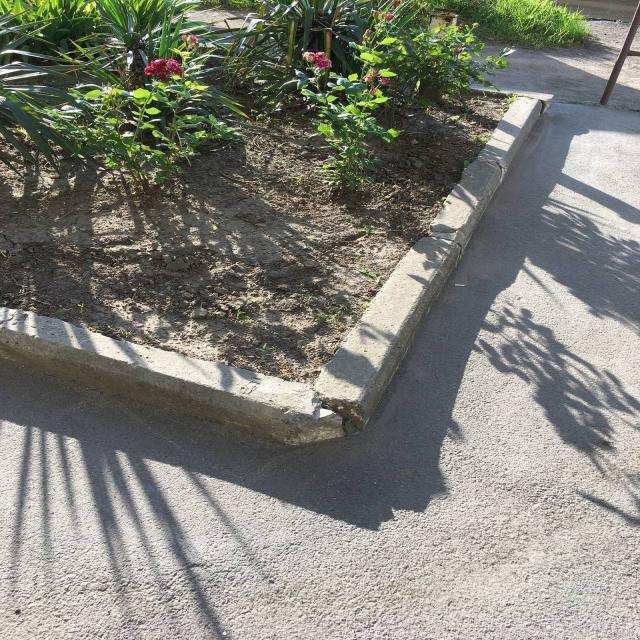bump: (0, 306, 342, 446), (321, 243, 460, 429), (413, 159, 501, 278)
